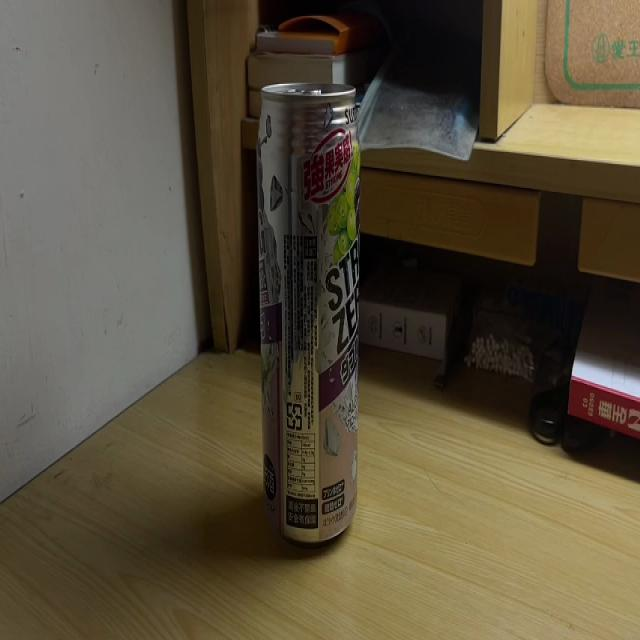Liquor: (256, 80, 360, 551)
